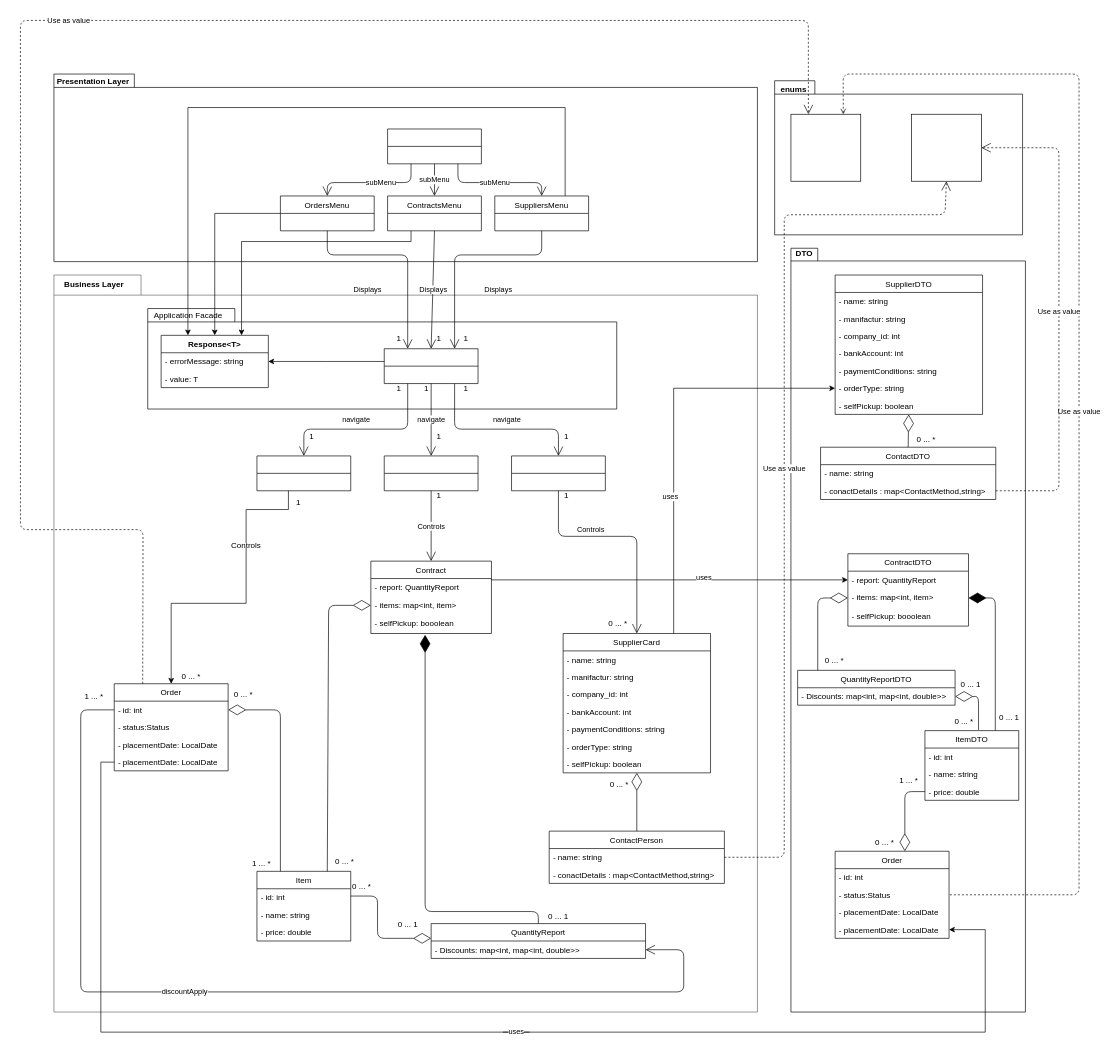
Image size: 1112x1051. Some labels were removed from this diagram. Each missing label, with the centre of its shape:
ContactMethod EMAIL Fax Phone Mobile: the point at 946,147
ContractController: the point at 431,473
Facade: the point at 431,366
MainMenu: the point at 434,146
OrderController: the point at 303,473
Status Canceled Active Completed inPrepared: the point at 825,147
SupplierController: the point at 558,473
